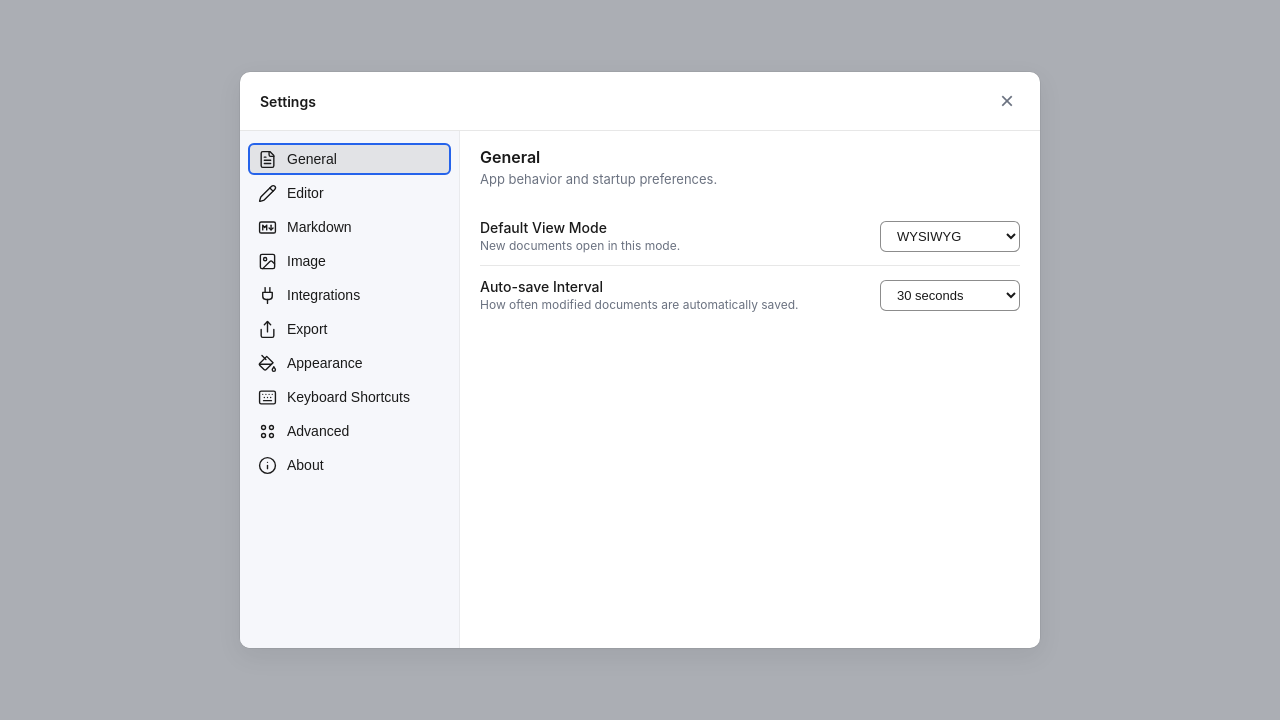
T-4b a later successful toggle clears an earlier refusal › T-4b(a) config_unreadable then ok: the unreadable note is gone and Off shows
Click the button "Integrations" at [350, 295], box [248, 279, 451, 311]
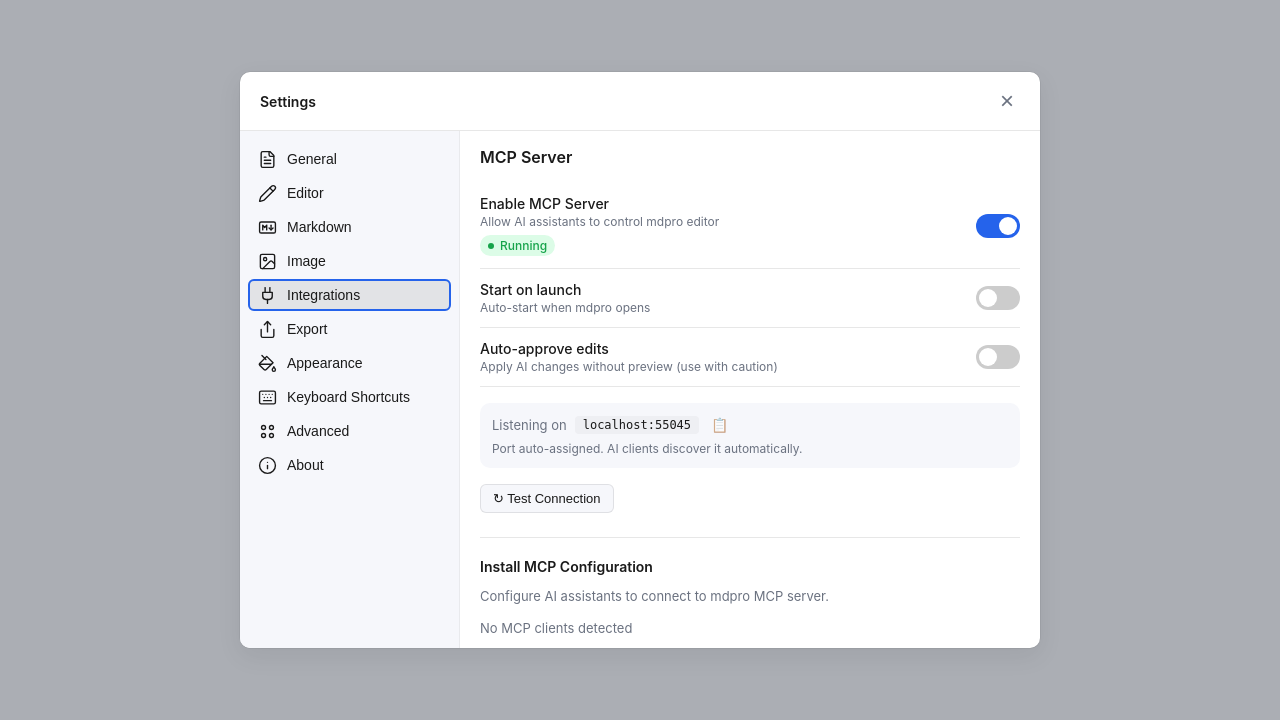
expect the switch labelled "Enable MCP Server" is enabled: met
expect the message "Running" is shown: met, box [480, 235, 555, 256]
Click the switch labelled "Enable MCP Server" at [998, 226], box [976, 214, 1020, 238]
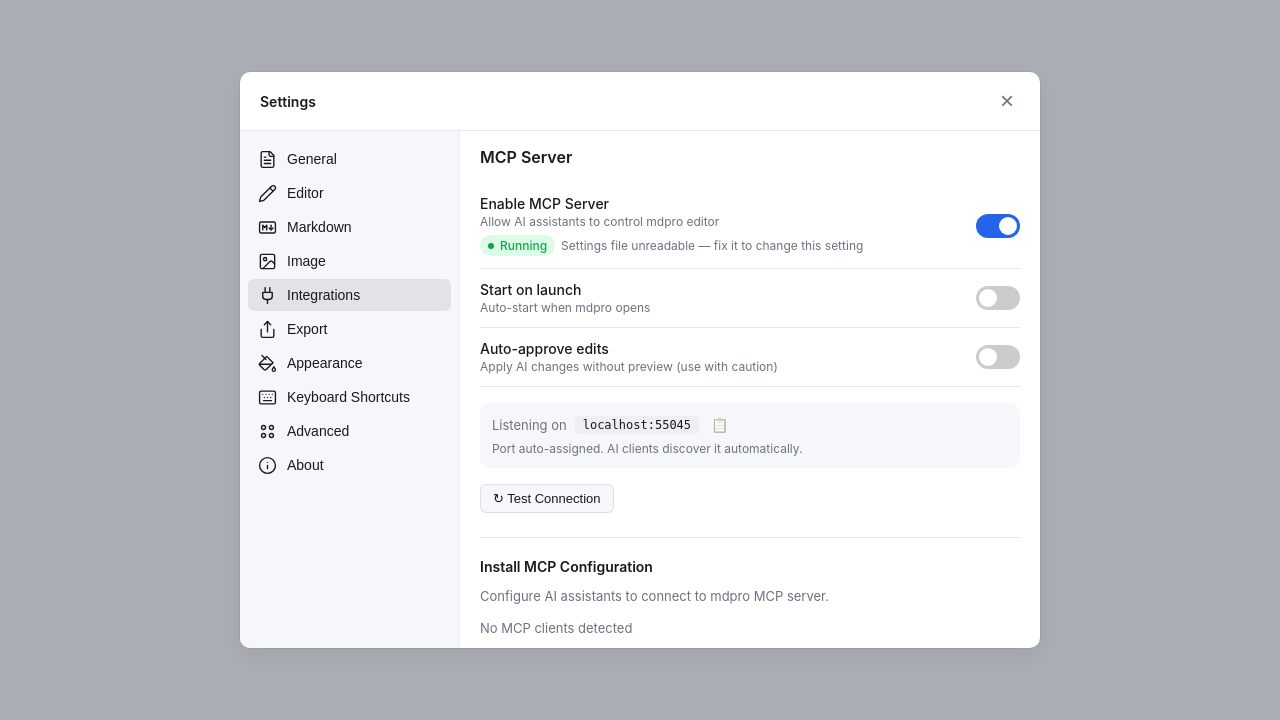
expect the switch labelled "Enable MCP Server" is checked: met
expect the switch labelled "Enable MCP Server" is enabled: met
expect the message shows "Settings file unreadable — fix it to change this setting": met, box [561, 238, 863, 253]
Click the switch labelled "Enable MCP Server" at [998, 226], box [976, 214, 1020, 238]
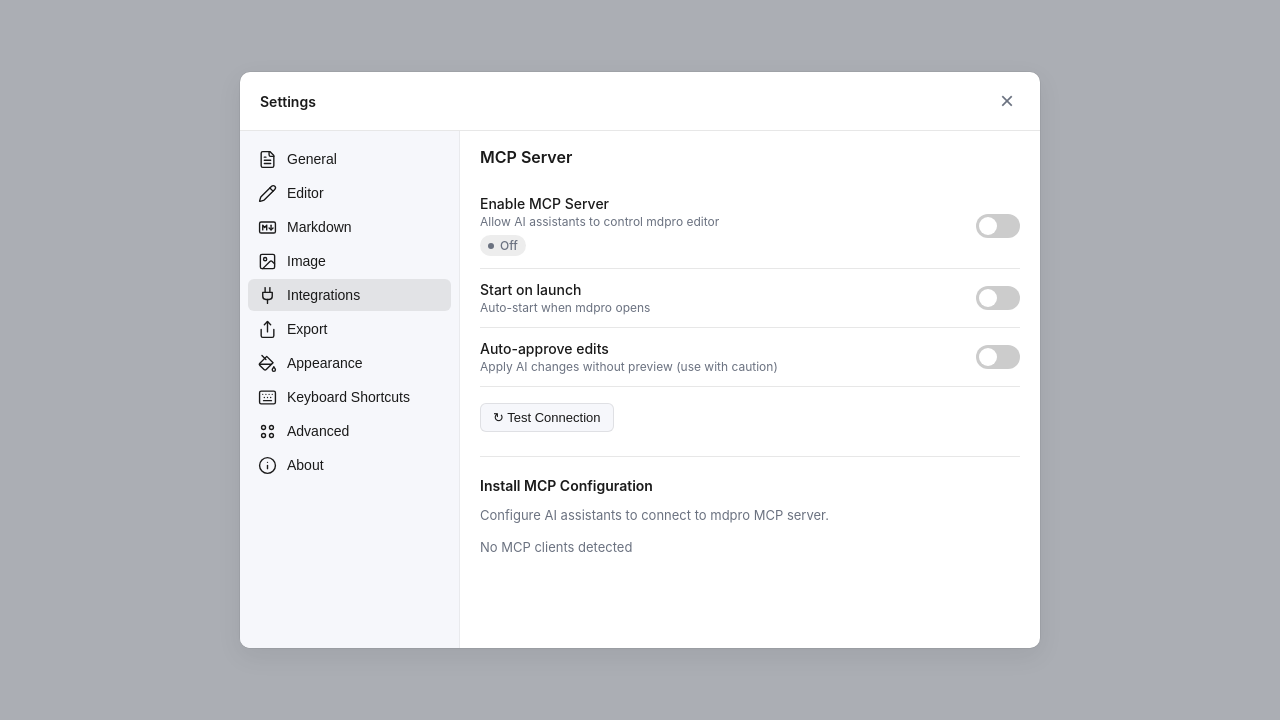
expect the switch labelled "Enable MCP Server" is enabled: met, box [976, 214, 1020, 238]
expect the message reads "Off": met, box [500, 238, 518, 253]
expect the message no longer shows "Settings file unreadable": met, box [480, 235, 526, 256]
